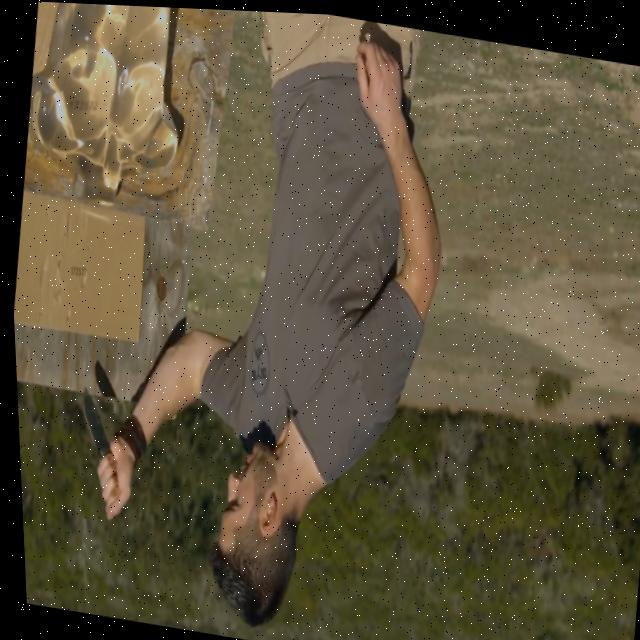knife: (69, 385, 119, 471)
